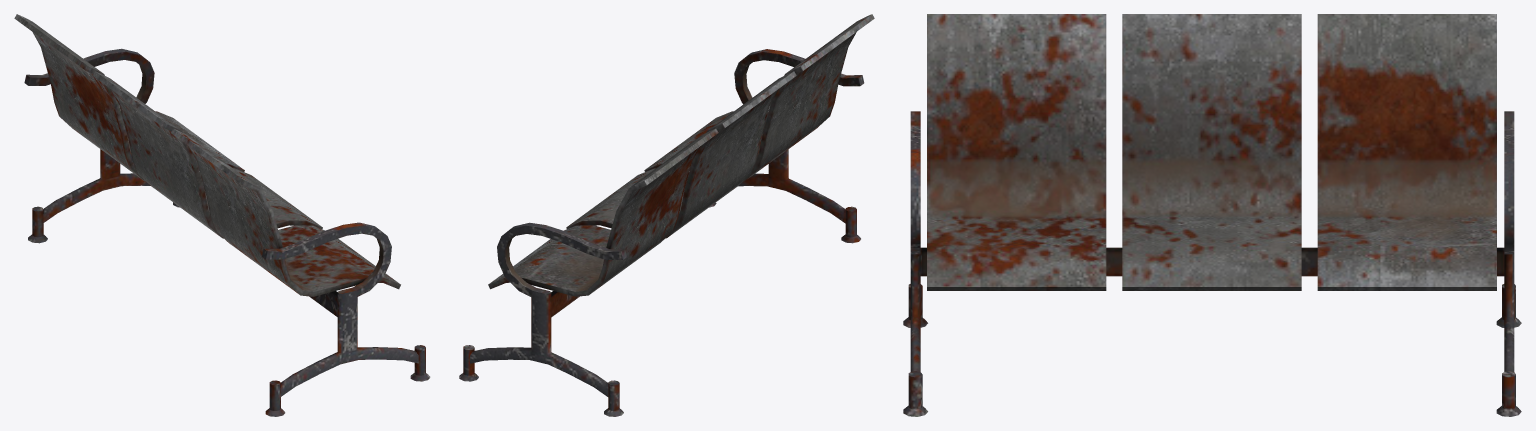
File: WaitingSeat.FBX
3 views of the same model, side by side, from view 1: azimuth 30°, elevation 25°; view 2: azimuth 150°, elevation 25°; view 3: azimuth 270°, elevation 25° (orthographic). The views are drawn at different scales.
Visible parts, largest first — view 1: WaitingSeat; view 2: WaitingSeat; view 3: WaitingSeat.
Part boxes in pixels (left/top/right/bottom): WaitingSeat: left=14, top=14, right=430, bottom=416; WaitingSeat: left=459, top=14, right=874, bottom=416; WaitingSeat: left=903, top=14, right=1521, bottom=416.
Bounding box in the file's own units: 80.55 × 99.23 × 190.
